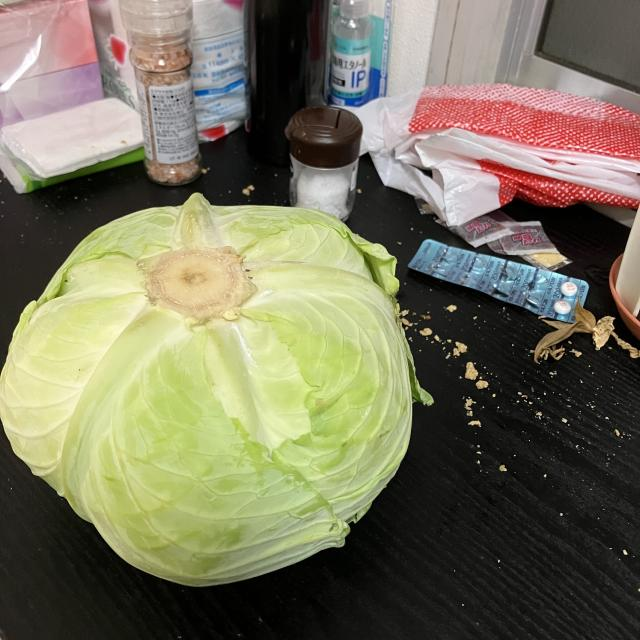cabbage: (0, 190, 436, 592)
